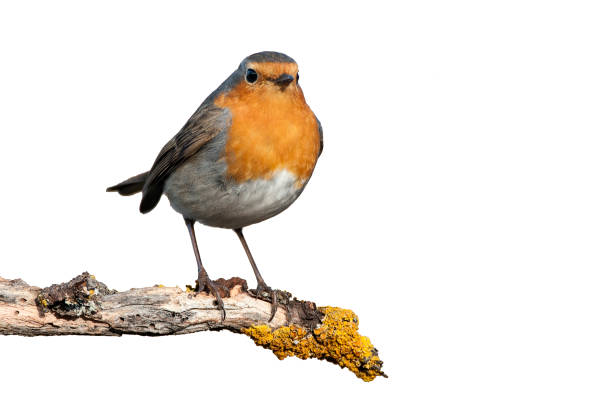Bird: (101, 50, 327, 327)
